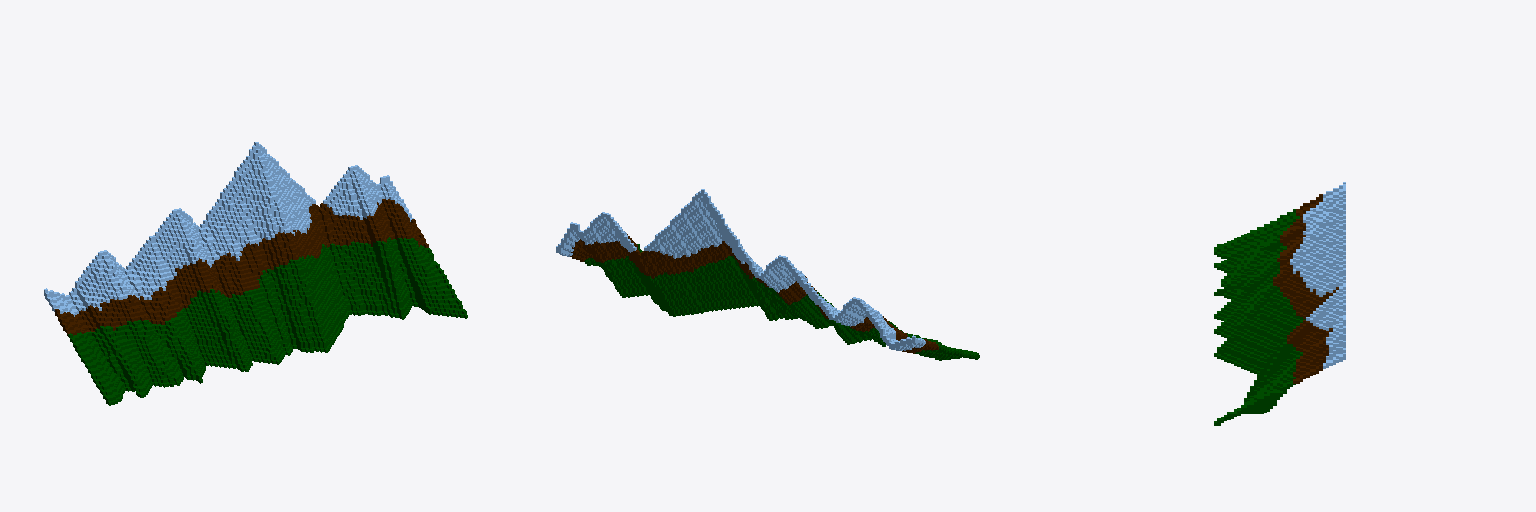
3 views of the same model, side by side, from view 1: azimuth 30°, elevation 25°; view 2: azimuth 150°, elevation 25°; view 3: azimuth 270°, elevation 25° (orthographic).
Parts seen in each view (by area): view 1: Mountain; view 2: Mountain; view 3: Mountain.
Boxes of the visible parts, <box> form: Mountain: <box>44,142,467,405</box>; Mountain: <box>556,189,979,360</box>; Mountain: <box>1214,182,1345,425</box>.
Bounding box in the file's own units: 126 × 55 × 40.
Materials: 1 (1 with a texture image).